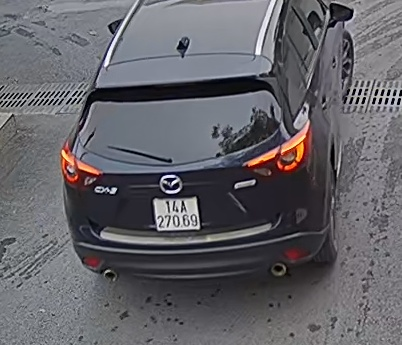vehicle plate: (151, 194, 202, 233)
